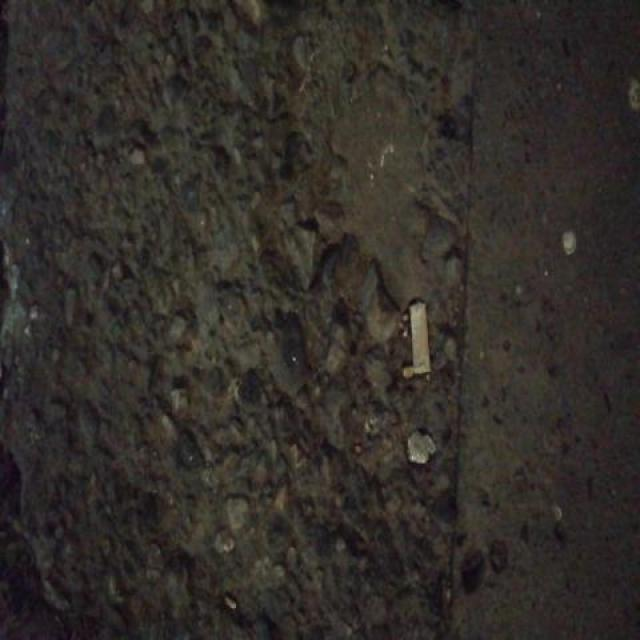non-organic waste: (405, 295, 435, 380)
